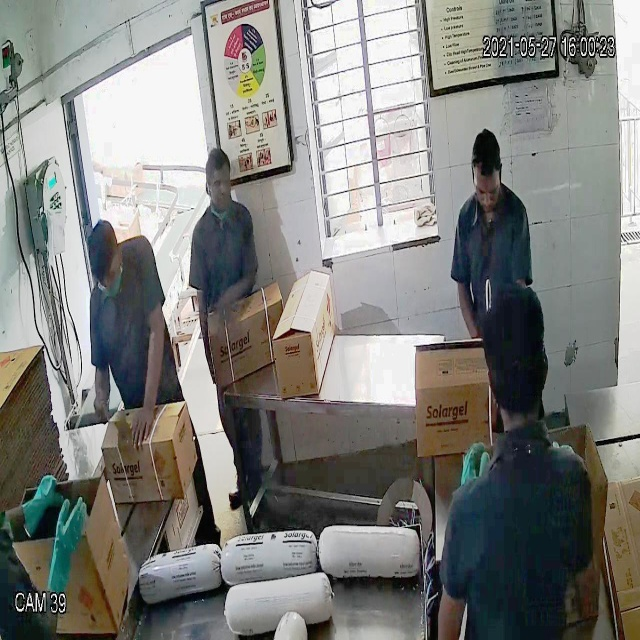Sin_gafas: (470, 172, 504, 205), (203, 171, 235, 197)
